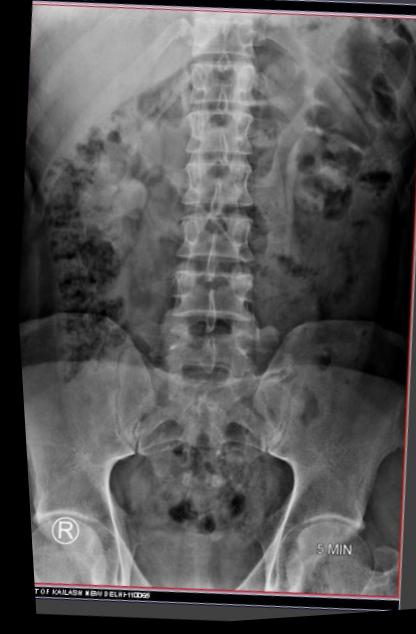vertebrae: (189, 97, 266, 155)
